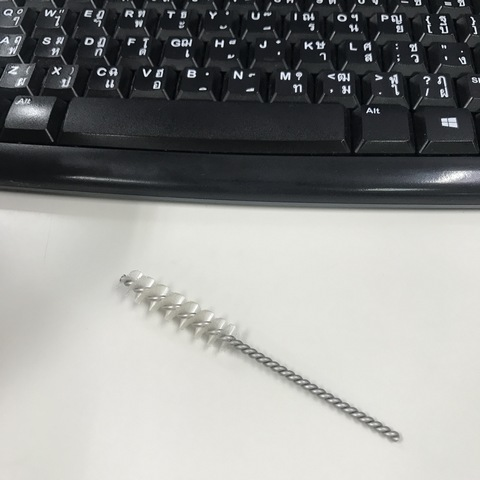Twist Brush-B: (118, 268, 402, 443)
